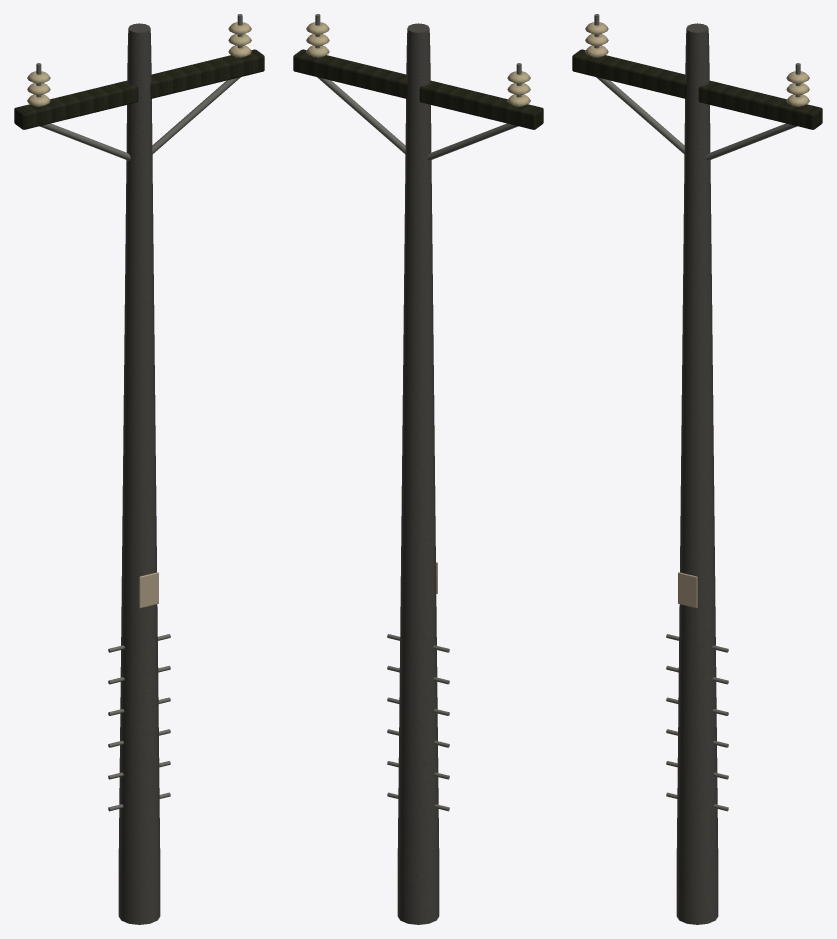
The model's file is MS_SP_01_UtilityPole.glb.
The picture shows the model from 3 angles, left to right: view 1: azimuth 30°, elevation 25°; view 2: azimuth 150°, elevation 25°; view 3: azimuth 330°, elevation 25°; orthographic projection.
Parts seen in each view (by area): view 1: ConcretePole, Crossarm, ClimbingPeg, Insulator, PolePlate; view 2: ConcretePole, Crossarm, ClimbingPeg, Insulator; view 3: ConcretePole, Crossarm, ClimbingPeg, Insulator, PolePlate.
Boxes of the visible parts, x1,y1,x2,y2 form: ConcretePole: (118, 23, 160, 924); Crossarm: (14, 49, 264, 129); ClimbingPeg: (36, 14, 242, 811); Insulator: (27, 22, 251, 106); PolePlate: (139, 572, 158, 608); ConcretePole: (397, 23, 439, 924); Crossarm: (293, 49, 543, 129); ClimbingPeg: (315, 14, 521, 811); Insulator: (306, 22, 530, 106); ConcretePole: (676, 23, 718, 924); Crossarm: (572, 49, 822, 129); ClimbingPeg: (594, 14, 800, 811); Insulator: (585, 22, 809, 106); PolePlate: (678, 572, 697, 608).
Size of the model in its own units: 2 by 7 by 0.3.
Materials: 5 (3 with a texture image).
